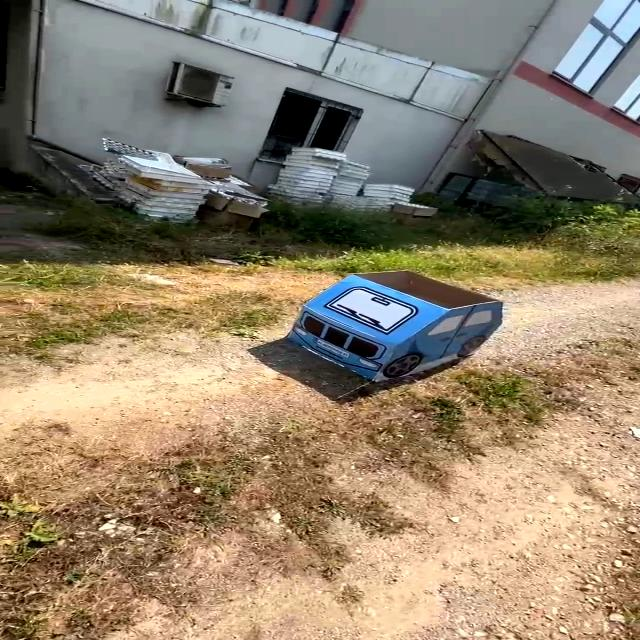blue_car: (233, 263, 532, 401)
